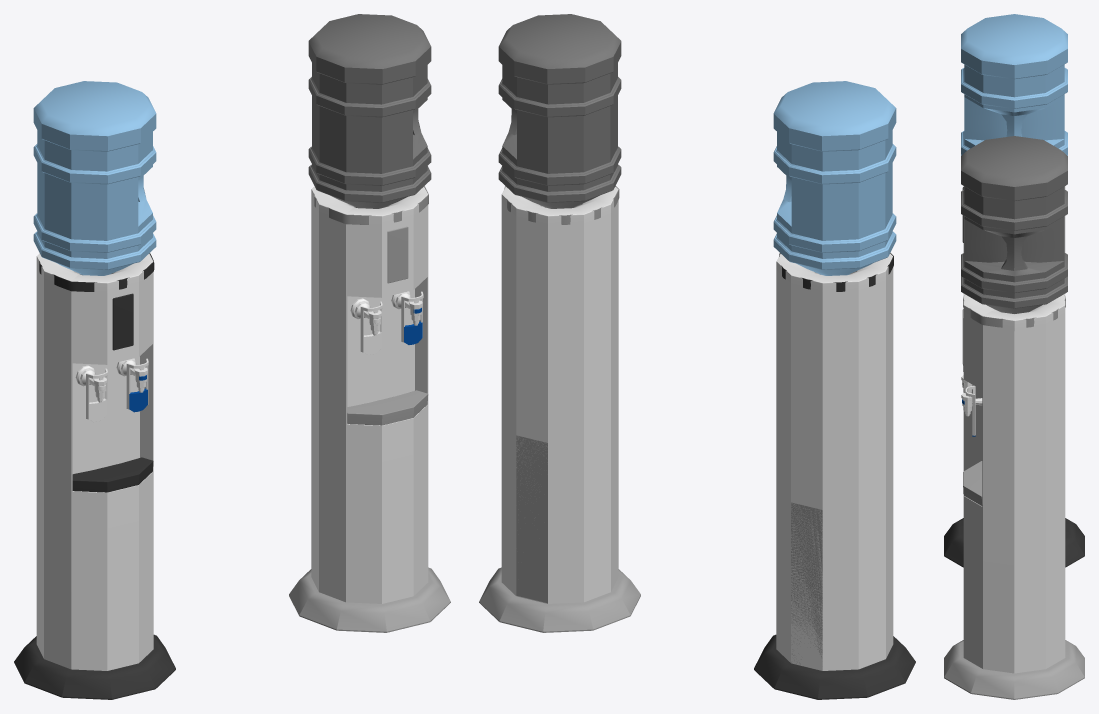
Rendered from water cooler.fbx.
3 views of the same model, side by side, from view 1: azimuth 30°, elevation 25°; view 2: azimuth 150°, elevation 25°; view 3: azimuth 270°, elevation 25° (orthographic). The views are drawn at different scales.
Visible parts, largest first — view 1: polySurface41, polySurface61, polySurface35, polySurface55, polySurface58, polySurface38, polySurface34, polySurface54, polySurface45, polySurface25, polySurface42, polySurface62; view 2: polySurface41, polySurface61, polySurface35, polySurface55, polySurface58, polySurface38, polySurface43, polySurface23; view 3: polySurface61, polySurface55, polySurface35, polySurface58, polySurface38, polySurface41, polySurface54, polySurface62, polySurface53.
Boxes of the visible parts, x1,y1,x2,y2 form: polySurface41: (36, 253, 153, 670); polySurface61: (311, 186, 428, 603); polySurface35: (33, 81, 156, 275); polySurface55: (308, 14, 431, 208); polySurface58: (289, 567, 450, 632); polySurface38: (14, 634, 175, 699); polySurface34: (72, 457, 153, 492); polySurface54: (347, 390, 428, 425); polySurface45: (387, 226, 408, 283); polySurface25: (112, 293, 133, 350); polySurface42: (39, 253, 154, 291); polySurface62: (314, 186, 428, 224); polySurface41: (776, 253, 893, 670); polySurface61: (501, 186, 618, 603); polySurface35: (773, 81, 896, 275); polySurface55: (498, 14, 621, 208); polySurface58: (479, 567, 640, 632); polySurface38: (754, 634, 915, 699); polySurface43: (516, 435, 547, 603); polySurface23: (791, 502, 822, 664); polySurface61: (963, 294, 1065, 673); polySurface55: (961, 136, 1067, 313); polySurface35: (961, 14, 1067, 155); polySurface58: (944, 640, 1084, 699); polySurface38: (944, 518, 1084, 567); polySurface41: (963, 186, 1065, 470); polySurface54: (963, 461, 982, 505); polySurface62: (963, 295, 1065, 327); polySurface53: (965, 385, 975, 435).
Bounding box in the file's own units: 9.57 × 12.39 × 3.09.
